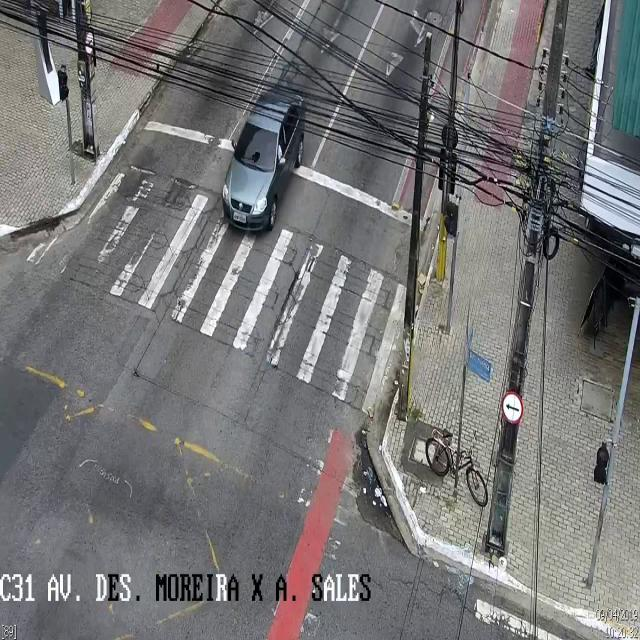Car: (221, 84, 307, 231)
